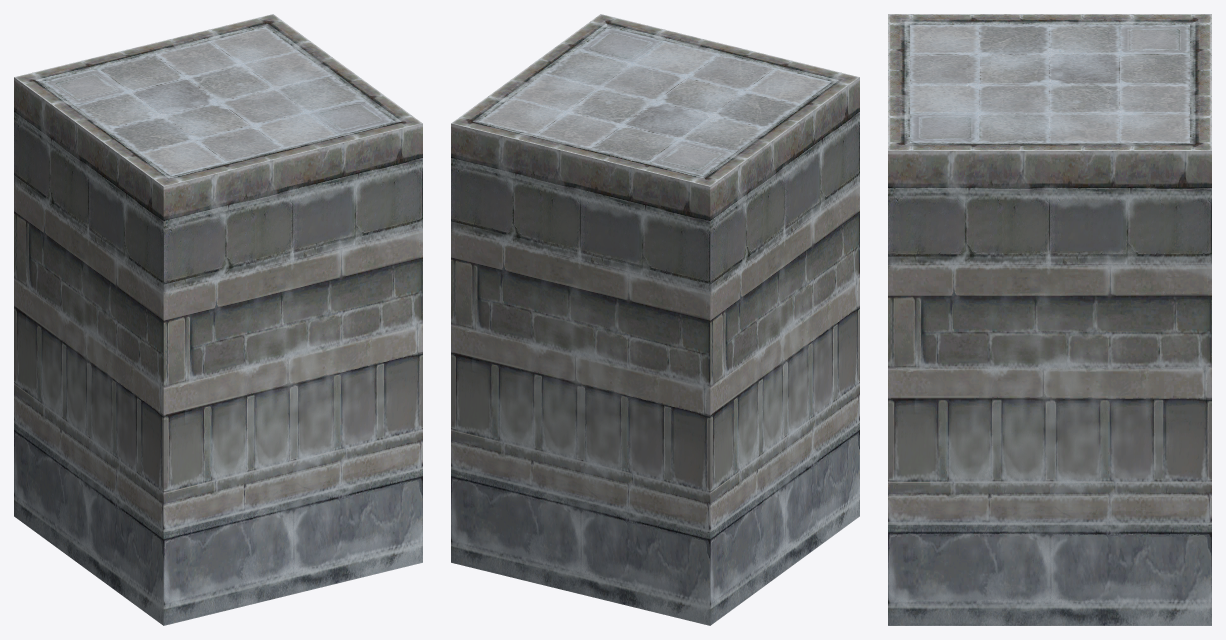
Rendered from jz_taijie_02.FBX.
3 renders of one model, left to right at view 1: azimuth 30°, elevation 25°; view 2: azimuth 150°, elevation 25°; view 3: azimuth 270°, elevation 25°, orthographic. The views are drawn at different scales.
Visible parts, largest first — view 1: jz_taijie_02; view 2: jz_taijie_02; view 3: jz_taijie_02.
Boxes of the visible parts, bbox=[...] form: jz_taijie_02: bbox=[14, 14, 422, 625]; jz_taijie_02: bbox=[451, 14, 859, 625]; jz_taijie_02: bbox=[888, 14, 1211, 625].
Size of the model in its own units: 500 by 809 by 500.
